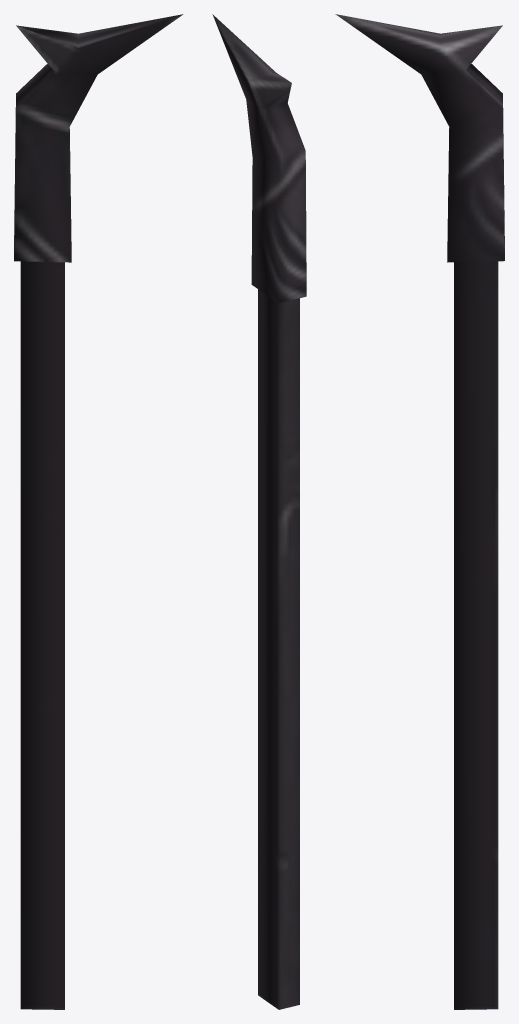
File: Beidaying_tiegun02.FBX
The picture shows the model from 3 angles, left to right: view 1: azimuth 90°, elevation 25°; view 2: azimuth 210°, elevation 25°; view 3: azimuth 270°, elevation 25°; orthographic projection. The views are drawn at different scales.
Parts seen in each view (by area): view 1: Beidaying_tiegun02; view 2: Beidaying_tiegun02; view 3: Beidaying_tiegun02.
Part boxes in pixels (<box>): Beidaying_tiegun02: <box>14,14,183,1009</box>; Beidaying_tiegun02: <box>212,14,306,1009</box>; Beidaying_tiegun02: <box>335,14,504,1009</box>.
Bounding box in the file's own units: 8.06 × 40.28 × 259.
